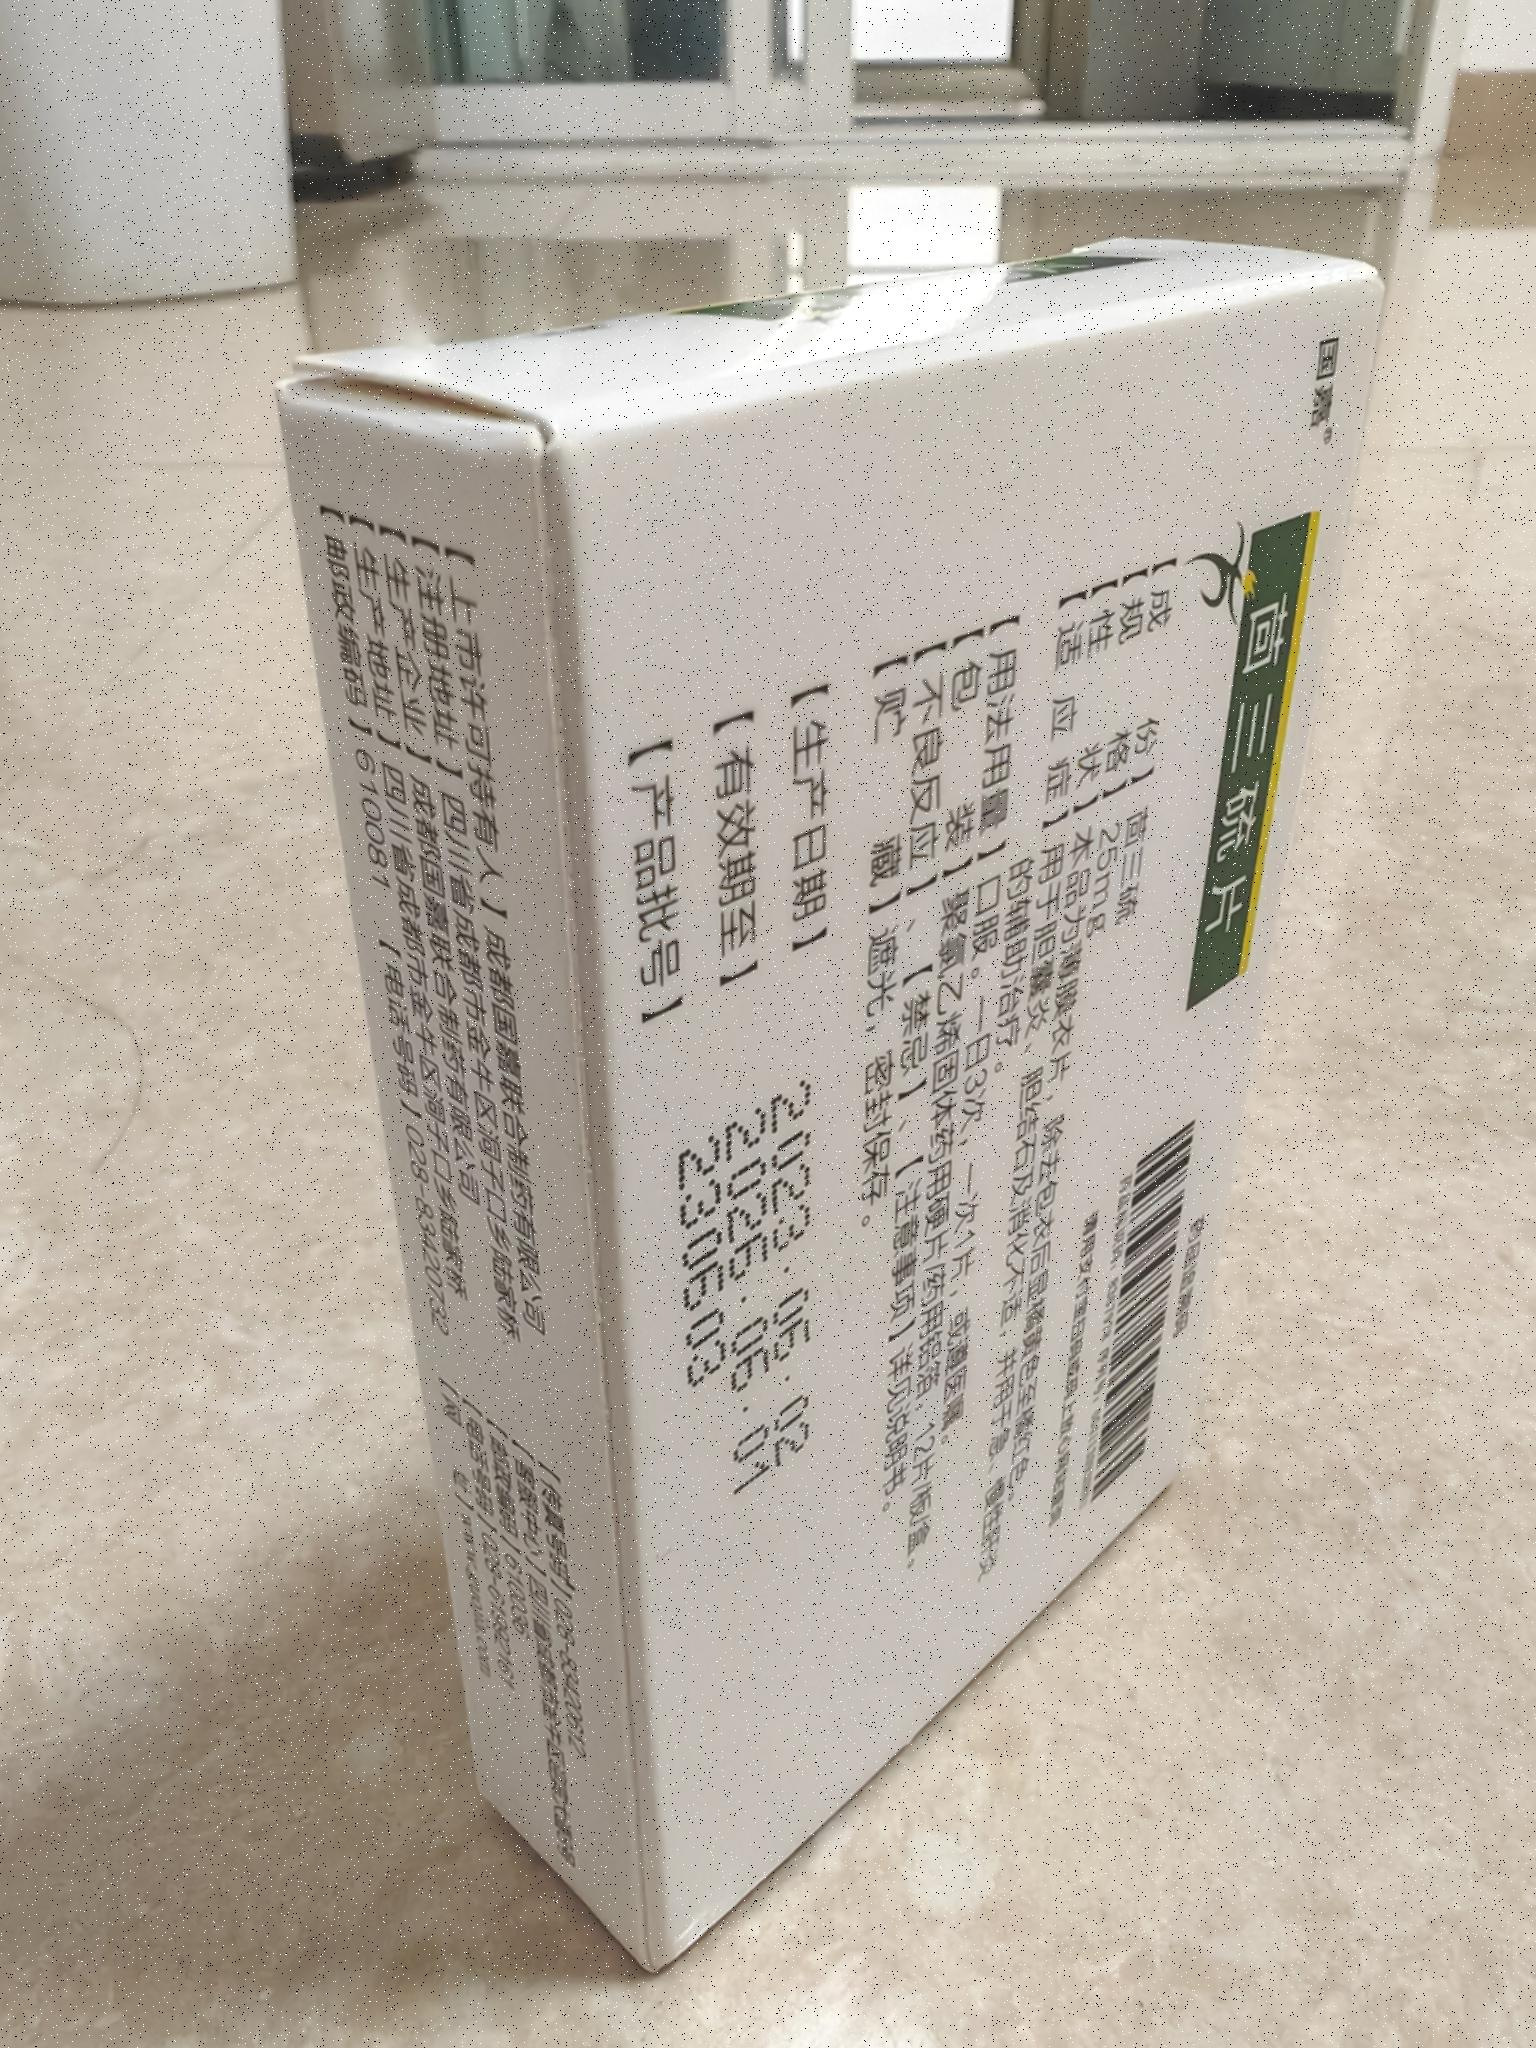Medicine4: (263, 216, 1405, 1993)
